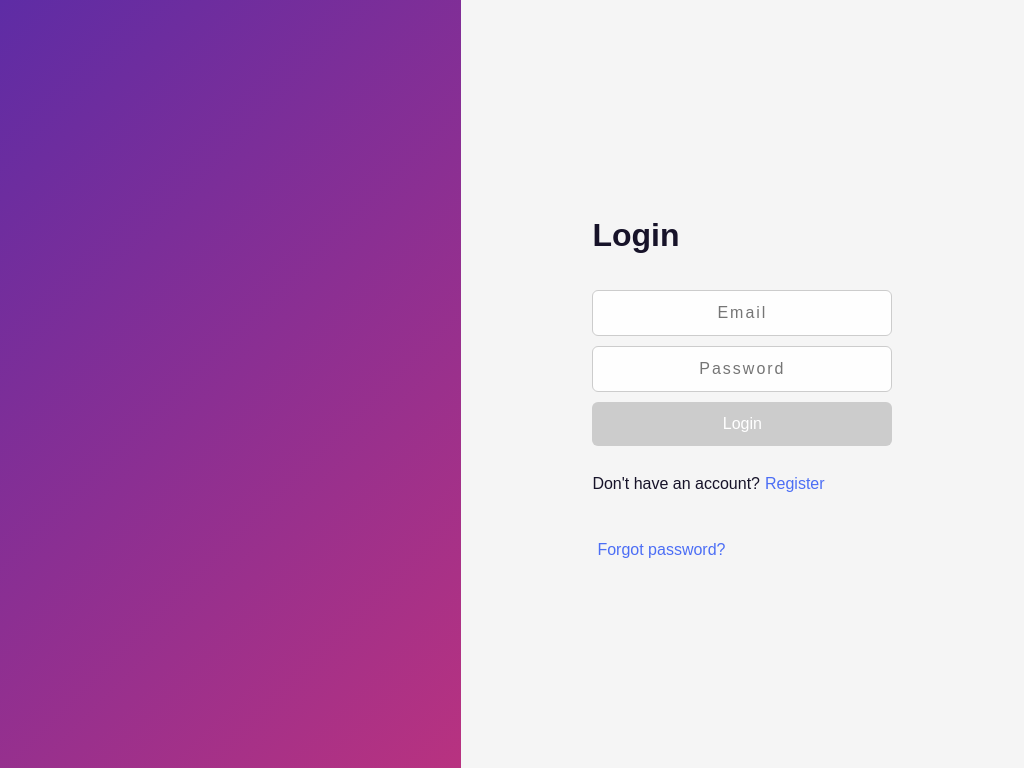
Scenario: Unit-тестування компонента <Login /> › показує помилку при введенні слабкого пароля
The width and height of the screenshot is (1024, 768).
Type "weakpass123" into the password field with placeholder "Password" at [742, 369], box 592,346 -> 892,392
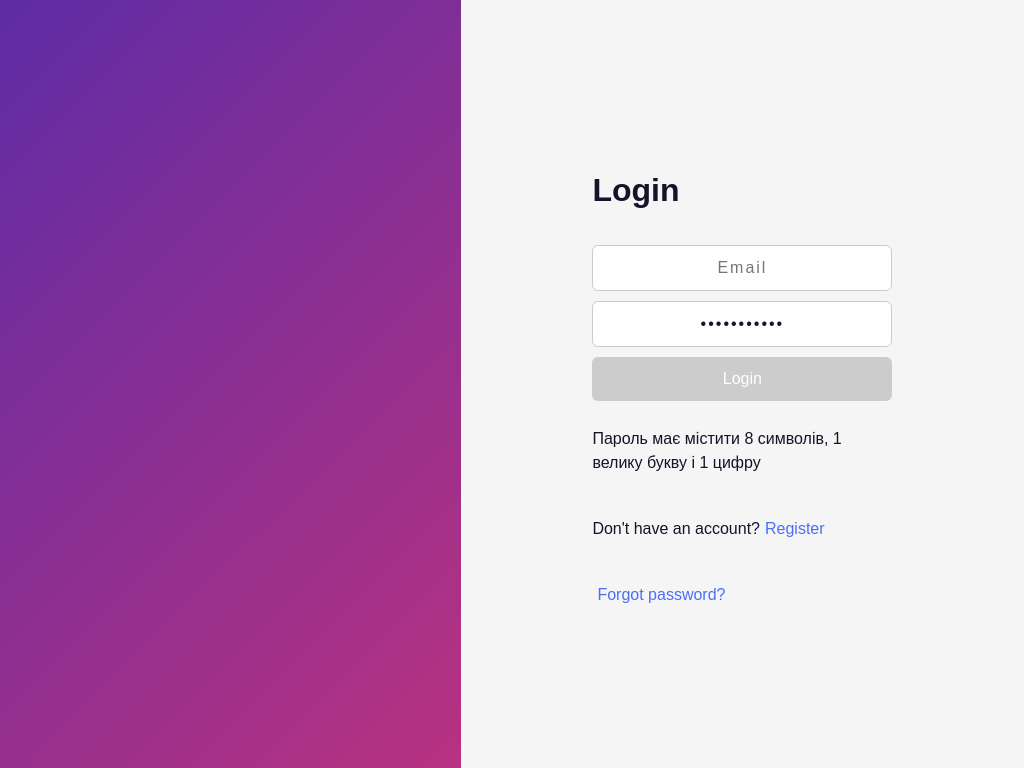
Now the text "Пароль має містити 8 символів, 1 велику букву і 1 цифру" is shown, box 592,430 -> 842,471
